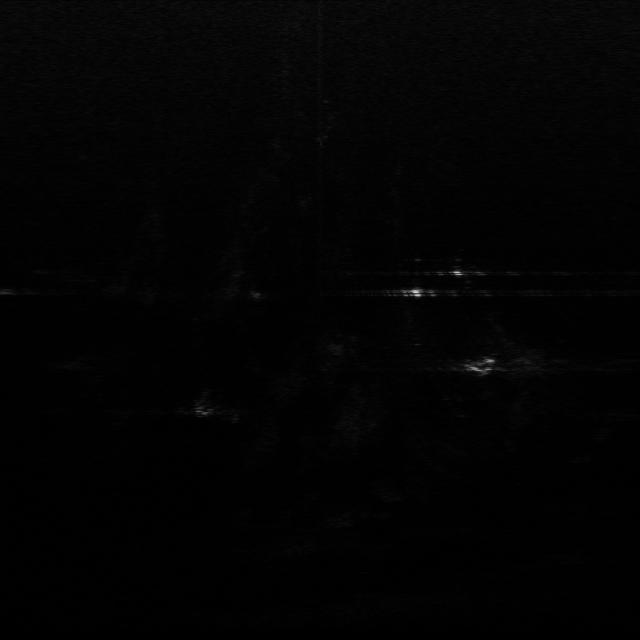rov: (462, 353, 507, 379)
